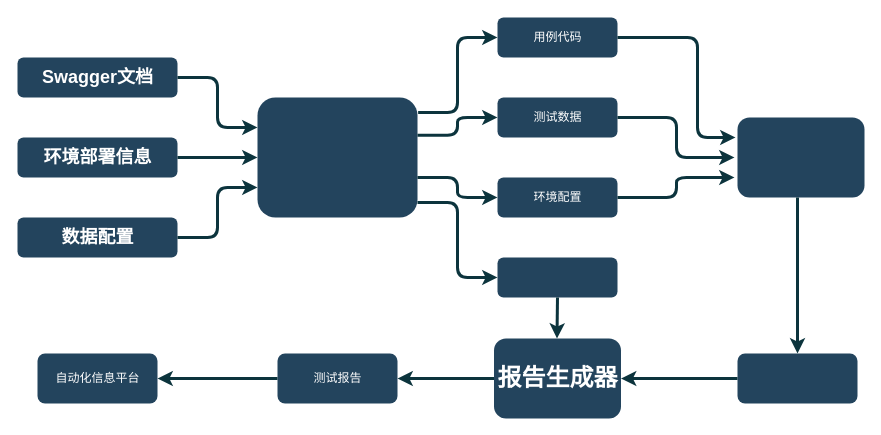
Some shapes in this 881 by 435 pixel diagram are drawn without their labels. Here are the shapes that lost their labels. From the top down, the centre of each, then its label:
At [337,157]: "测试生成器".
At [800,157]: "测试执行".
At [557,277]: "验证配置".
At [797,378]: "结果数据".
